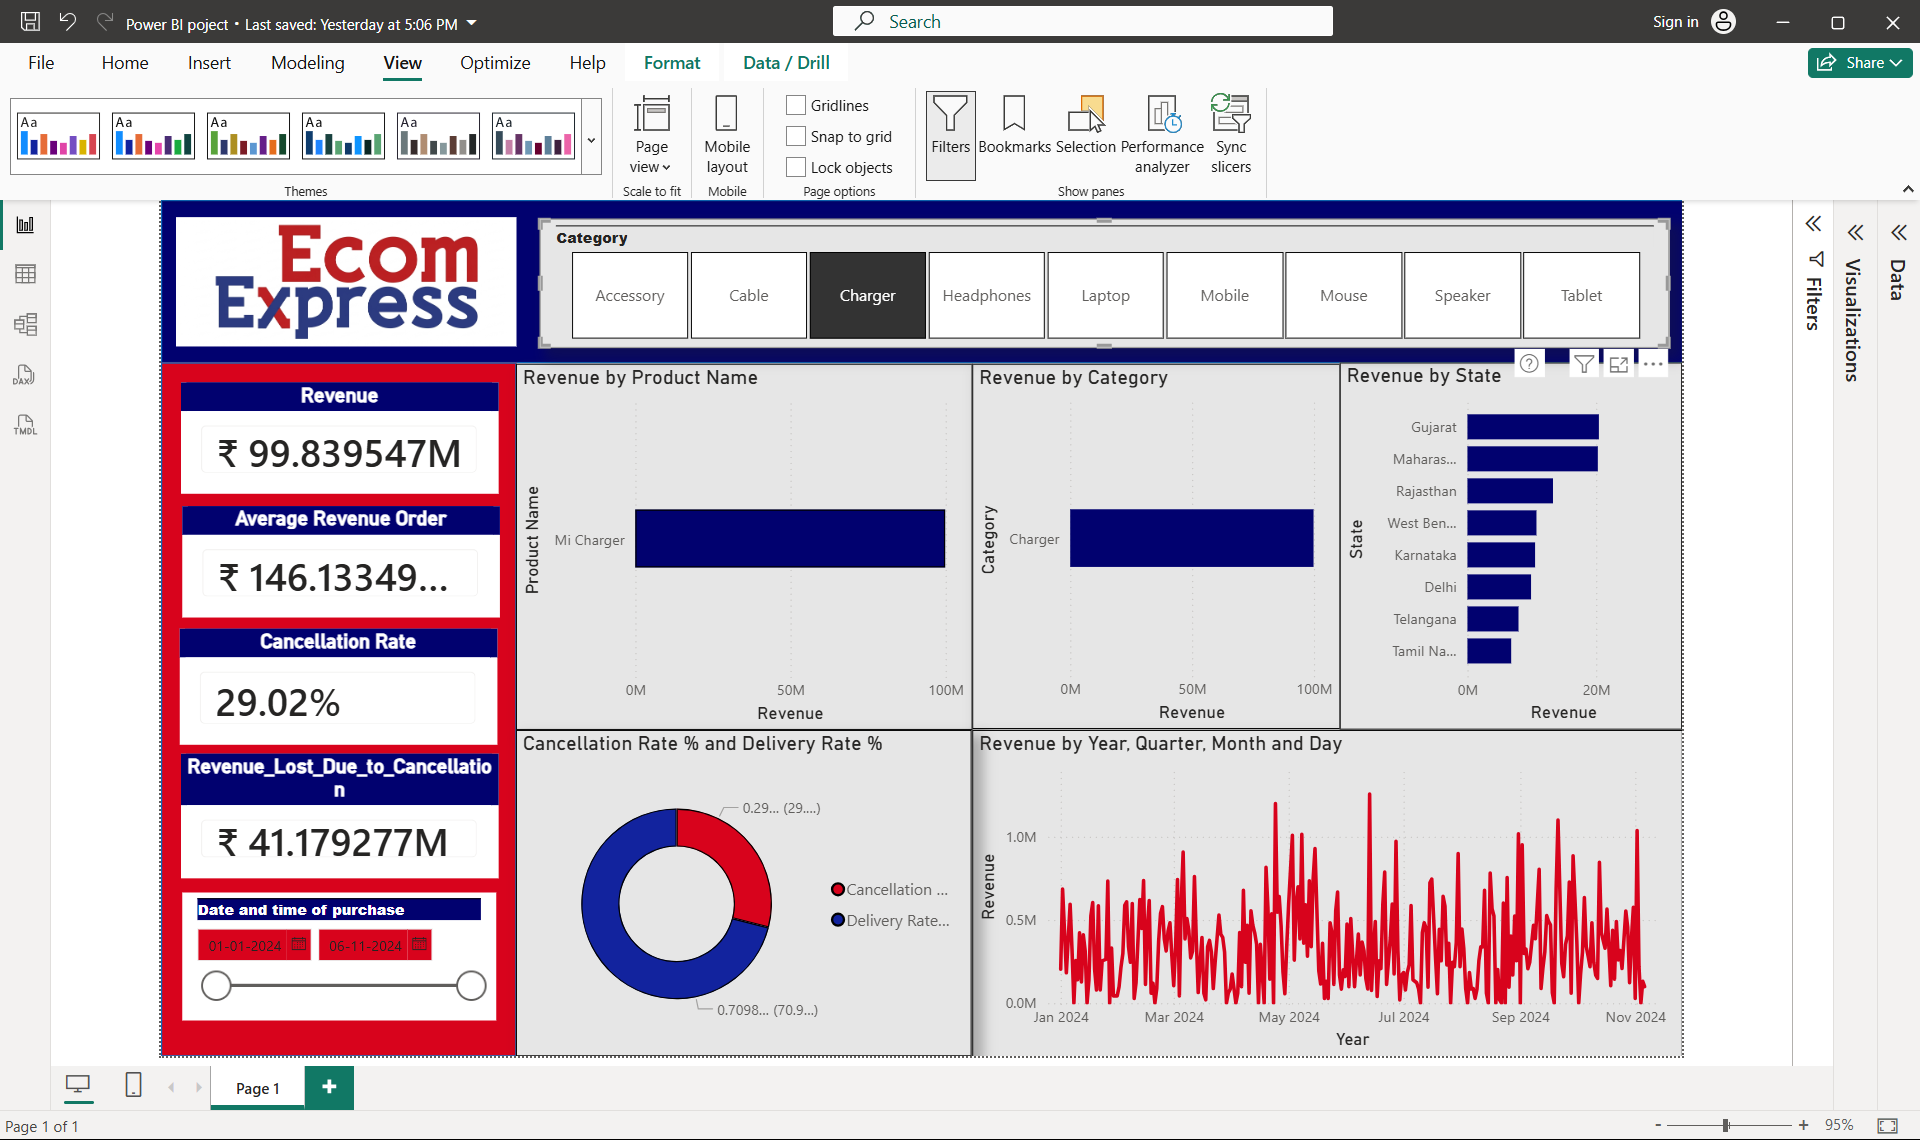

The dashboard page shown, as its layout file describes it:
{"tool":"powerbi","page":{"name":"Page 1","canvas":[1280,720],"ordinal":0},"visuals":[{"type":"shape","box":[0,0,1280.3,137.2],"z":0},{"type":"shape","box":[0,136.9,299,583.6],"z":1000},{"type":"image","box":[12.3,0,286.8,137.2],"z":2000},{"type":"barChart","fields":{"Y":["table.Revenue"],"Category":["Products.Product Name"]},"box":[298.6,137.7,383.8,308.1],"z":3000},{"type":"barChart","fields":{"Category":["Products.Category"],"Y":["table.Revenue"]},"box":[682,138.1,309.8,307.4],"z":4000},{"type":"lineChart","fields":{"Category":["Orders.Date and time of purchase.Variation.Date Hierarchy.Year","Orders.Date and time of purchase.Variation.Date Hierarchy.Quarter","Orders.Date and time of purchase.Variation.Date Hierarchy.Month","Orders.Date and time of purchase.Variation.Date Hierarchy.Day"],"Y":["table.Revenue"]},"box":[682,445.5,598,275],"z":5000},{"type":"barChart","fields":{"Category":["Customers.State"],"Y":["table.Revenue"]},"box":[991.8,136.9,288.2,308.6],"z":6000},{"type":"slicer","fields":{"Values":["Products.Category"]},"box":[318.6,15.4,950.2,109],"z":7000},{"type":"cardVisual","title":"Revenue","fields":{"Data":["table.Revenue"]},"box":[16.8,153.7,266.9,93.6],"z":8000},{"type":"cardVisual","title":"Average Revenue Order","fields":{"Data":["table.AverageRevenueOrder"]},"box":[18.2,257.1,266.9,93.6],"z":9000},{"type":"cardVisual","title":"Cancellation Rate","fields":{"Data":["table.Cancellation Rate"]},"box":[15.4,360.5,266.9,97.8],"z":10000},{"type":"cardVisual","title":"Revenue_Lost_Due_to_Cancellation","fields":{"Data":["table.Revenue_Lost"]},"box":[16.8,465.3,266.9,104.8],"z":11000},{"type":"slicer","fields":{"Values":["Orders.Date and time of purchase"]},"box":[18.2,582.7,264.1,107.6],"z":12000},{"type":"donutChart","fields":{"Y":["table.Cancellation Rate","table.Delivery Rate %"]},"box":[299,446,383,274],"z":13000}]}

Visuals, with their boxes on the page's 1280x720 design canvas (x1, y1, x2, y2). These are canvas units, not pixel positions in the 1920x1140 screenshot, which may show the page scaled, cropped or inside an application window:
shape: region(0, 0, 1280, 137)
shape: region(0, 137, 299, 720)
image: region(12, 0, 299, 137)
barChart - table.Revenue x Products.Product Name: region(299, 138, 682, 446)
barChart - Products.Category x table.Revenue: region(682, 138, 992, 446)
lineChart - Orders.Date and time of purchase.Variation.Date Hierarchy.Year x Orders.Date and time of purchase.Variation.Date Hierarchy.Quarter: region(682, 446, 1280, 720)
barChart - Customers.State x table.Revenue: region(992, 137, 1280, 446)
slicer - Products.Category: region(319, 15, 1269, 124)
"Revenue" cardVisual: region(17, 154, 284, 247)
"Average Revenue Order" cardVisual: region(18, 257, 285, 351)
"Cancellation Rate" cardVisual: region(15, 360, 282, 458)
"Revenue_Lost_Due_to_Cancellation" cardVisual: region(17, 465, 284, 570)
slicer - Orders.Date and time of purchase: region(18, 583, 282, 690)
donutChart - table.Cancellation Rate x table.Delivery Rate %: region(299, 446, 682, 720)
